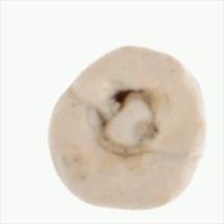L3: (87, 87, 161, 158)
L4: (47, 45, 205, 209)
